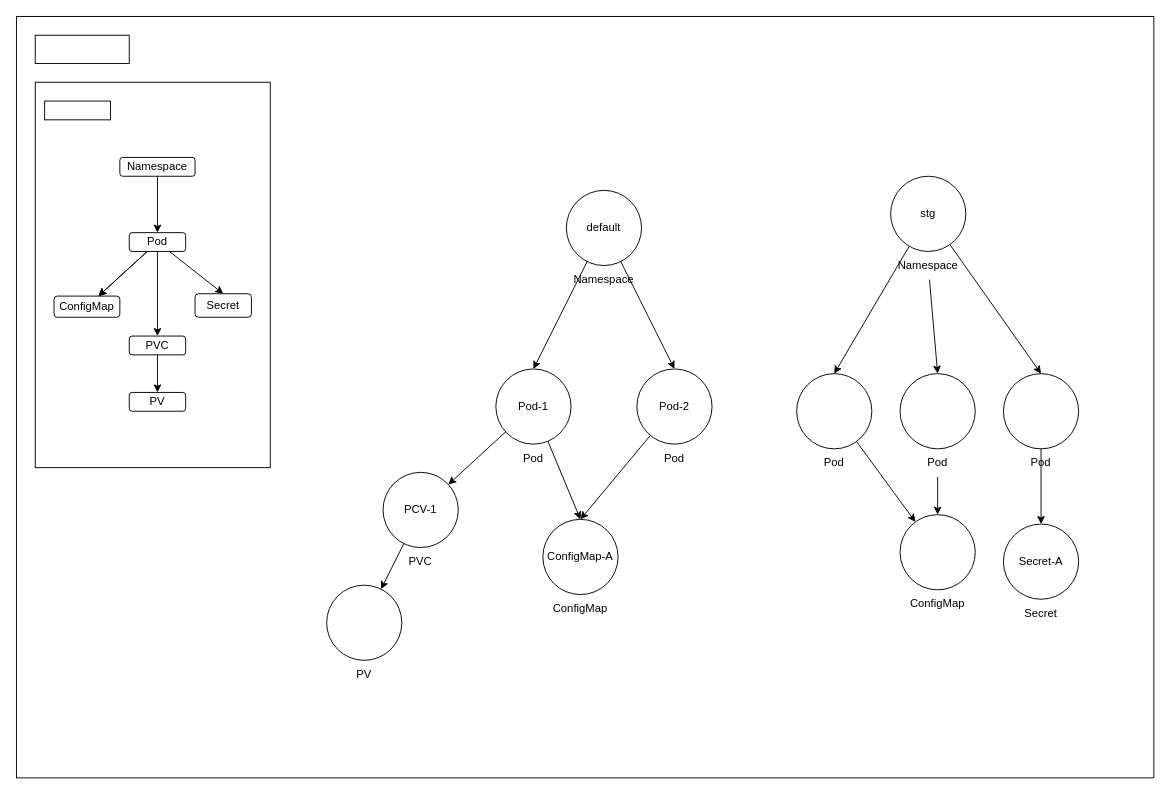
Some shapes in this 1170 by 794 pixel diagram are drawn without their labels. The shapes that lost their labels are listed below. From the top down, each one's box as (x1, y1, x2, y2) in pixels, then its label:
(34, 34, 129, 63): /resources/pod
(44, 100, 110, 120): Module
(796, 373, 872, 449): Pod-3
(899, 373, 975, 449): Pod-4
(1003, 373, 1079, 449): Pod-5
(899, 514, 975, 590): ConfigMap-B
(326, 584, 402, 660): PV-1
